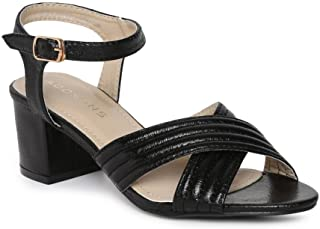shoes: (1, 1, 317, 219)
